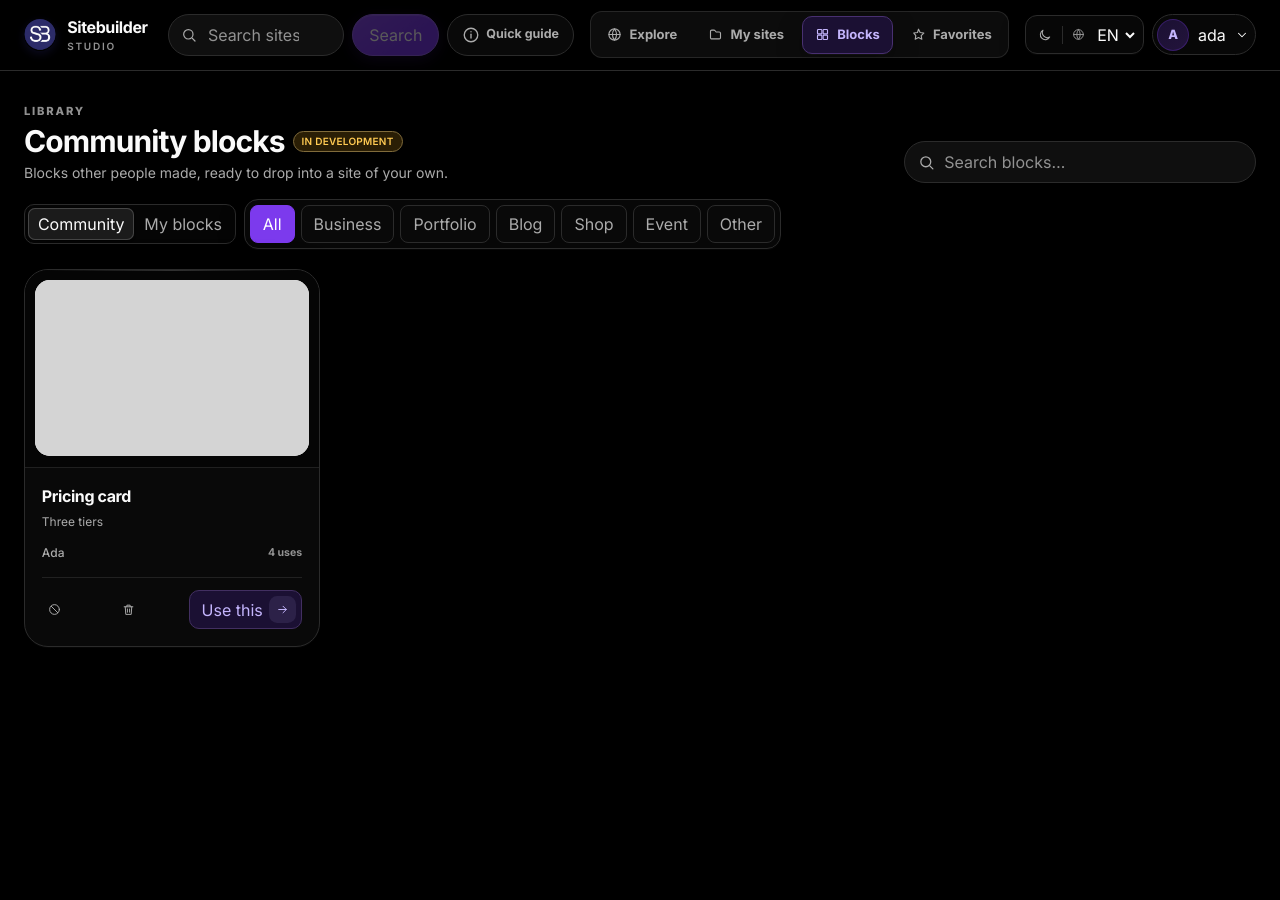
public and private › keeps it on your own shelf, wearing the badge
The width and height of the screenshot is (1280, 900).
Click the button "My blocks". click: (183,224)
box: [134,208,232,240]
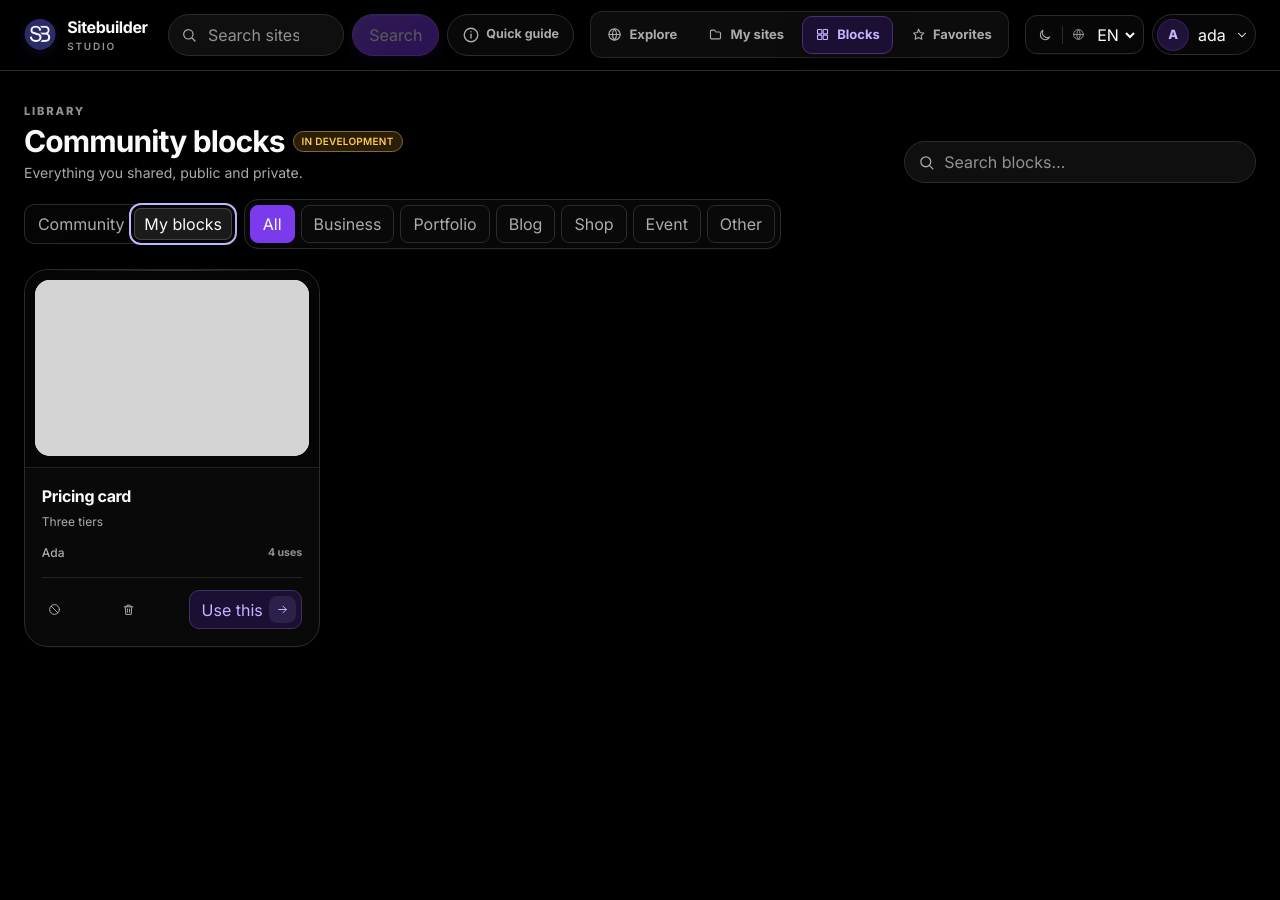
Click the button named "Make private". click: (55,610)
box: [42,592,68,628]
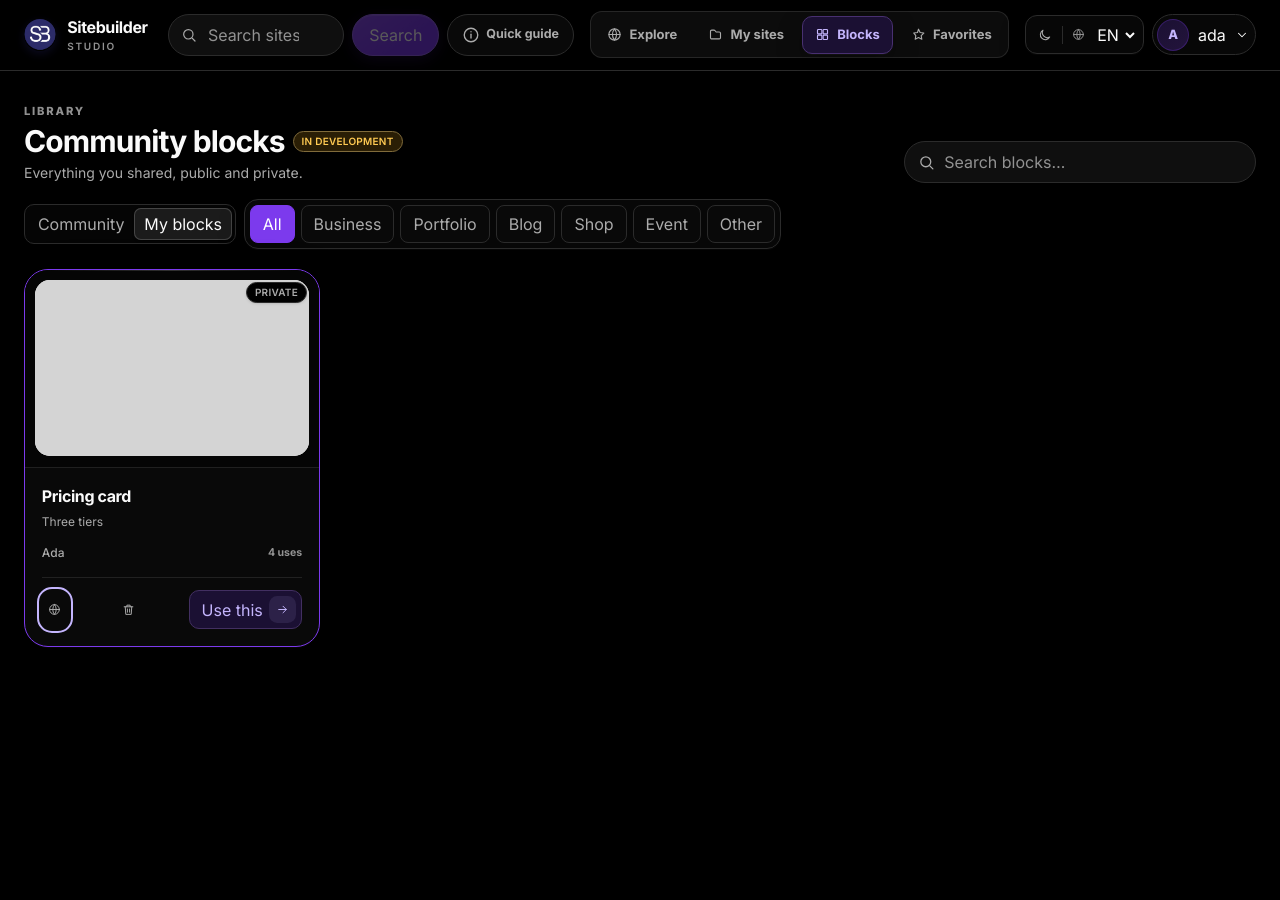
Expected: the text "Private" is shown, [246,282,307,303]
Expected: the button named "Make public" is shown, [42,592,68,628]
